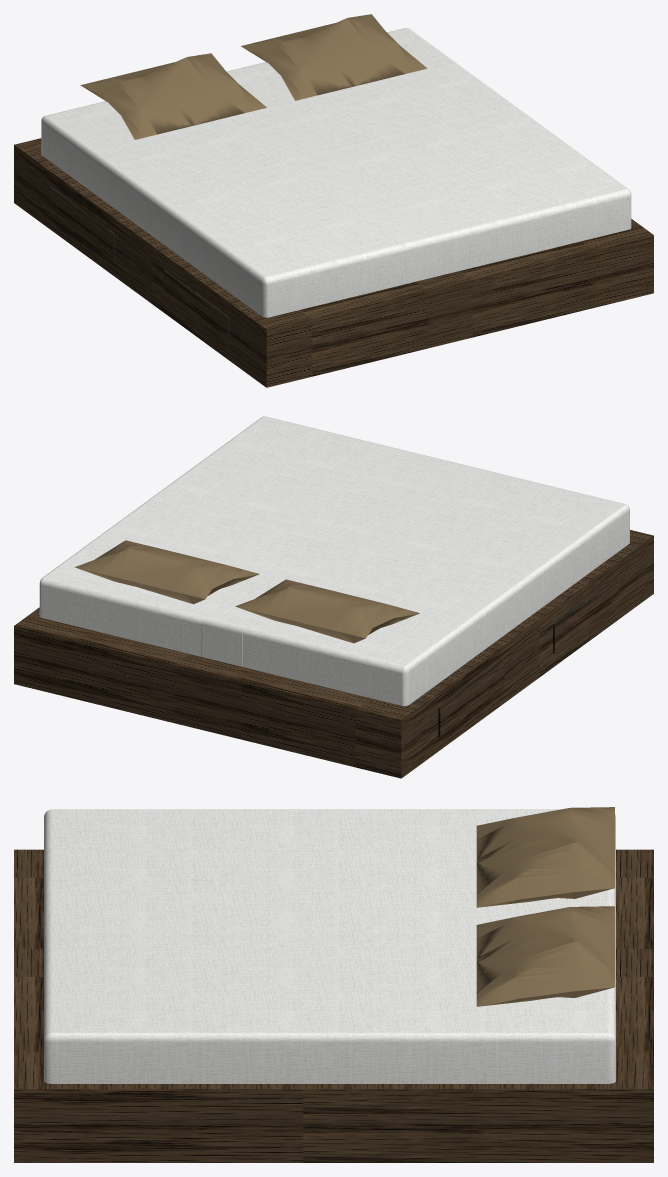
The model's file is bed-c.dae.
3 renders of one model, top to bottom at view 1: azimuth 30°, elevation 25°; view 2: azimuth 150°, elevation 25°; view 3: azimuth 270°, elevation 25°, orthographic. The views are drawn at different scales.
Visible parts, largest first — view 1: group_0 (×2), group_4 (×2), pillow_1 (×2), group_3 (×2); view 2: group_0 (×4), group_4 (×2), pillow_1 (×2), group_3 (×2); view 3: group_0 (×2), group_4 (×2), pillow_1 (×2).
Boxes of the visible parts, x1,y1,x2,y2 form: group_0 (×2): [41, 28, 631, 317]; group_4 (×2): [14, 138, 653, 387]; pillow_1 (×2): [80, 14, 427, 139]; group_3 (×2): [49, 187, 227, 346]; group_0 (×4): [39, 416, 629, 706]; group_4 (×2): [14, 530, 653, 778]; pillow_1 (×2): [75, 540, 419, 643]; group_3 (×2): [440, 578, 618, 736]; group_0 (×2): [44, 809, 615, 1083]; group_4 (×2): [14, 849, 653, 1162]; pillow_1 (×2): [476, 807, 614, 1006].
Bounding box in the file's own units: 82.64 × 92.9 × 27.12.
